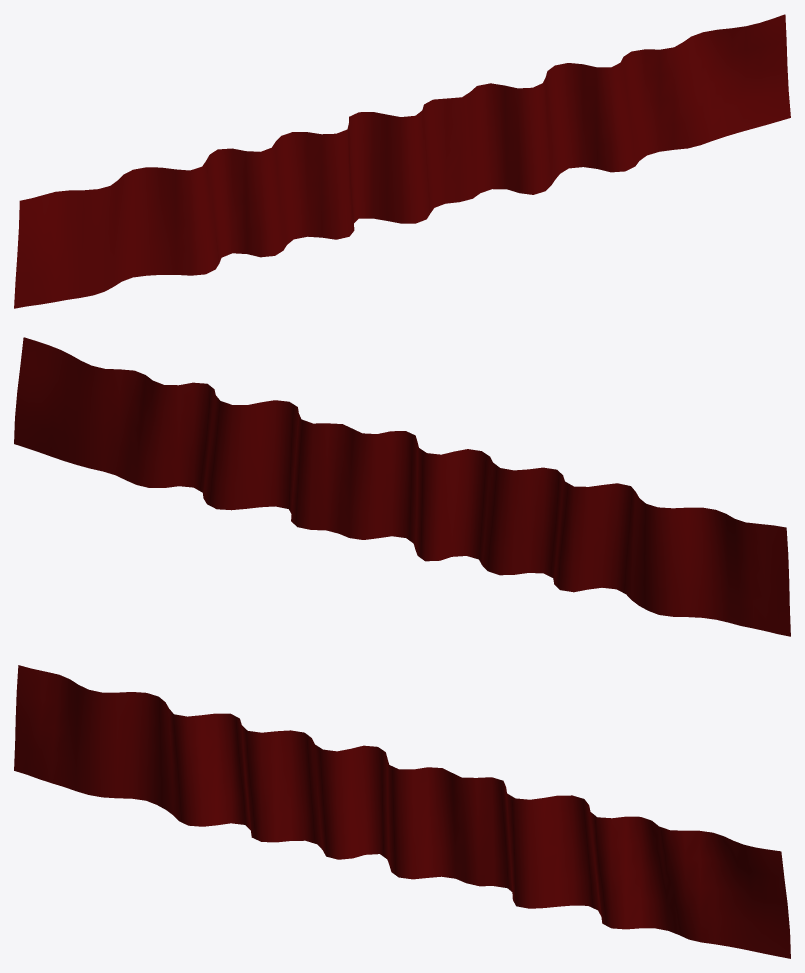
The model's file is Sipario_Up_DEF.fbx.
The picture shows the model from 3 angles, top to bottom: view 1: azimuth 30°, elevation 25°; view 2: azimuth 150°, elevation 25°; view 3: azimuth 330°, elevation 25°; orthographic projection.
Visible parts, largest first — view 1: Franco:Sipario_Alto1; view 2: Franco:Sipario_Alto1; view 3: Franco:Sipario_Alto1.
Part boxes in pixels (left/top/right/bottom): Franco:Sipario_Alto1: left=14, top=14, right=790, bottom=308; Franco:Sipario_Alto1: left=14, top=337, right=790, bottom=636; Franco:Sipario_Alto1: left=14, top=665, right=790, bottom=958.
Bounding box in the file's own units: 605 × 84.85 × 26.24.
